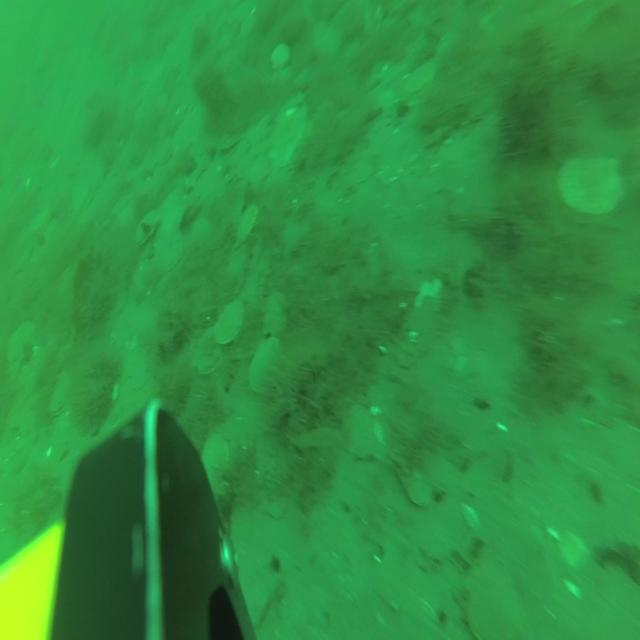scallop: (467, 559, 521, 640), (560, 156, 624, 217), (346, 404, 377, 460), (202, 437, 232, 490), (250, 342, 283, 390), (196, 330, 228, 376), (213, 301, 246, 345), (154, 224, 180, 276), (4, 324, 36, 364), (405, 61, 438, 99), (234, 207, 257, 253), (135, 210, 161, 247), (409, 470, 433, 508), (48, 373, 68, 412), (269, 44, 292, 73), (218, 130, 242, 156)
starfish: (266, 102, 306, 164)
